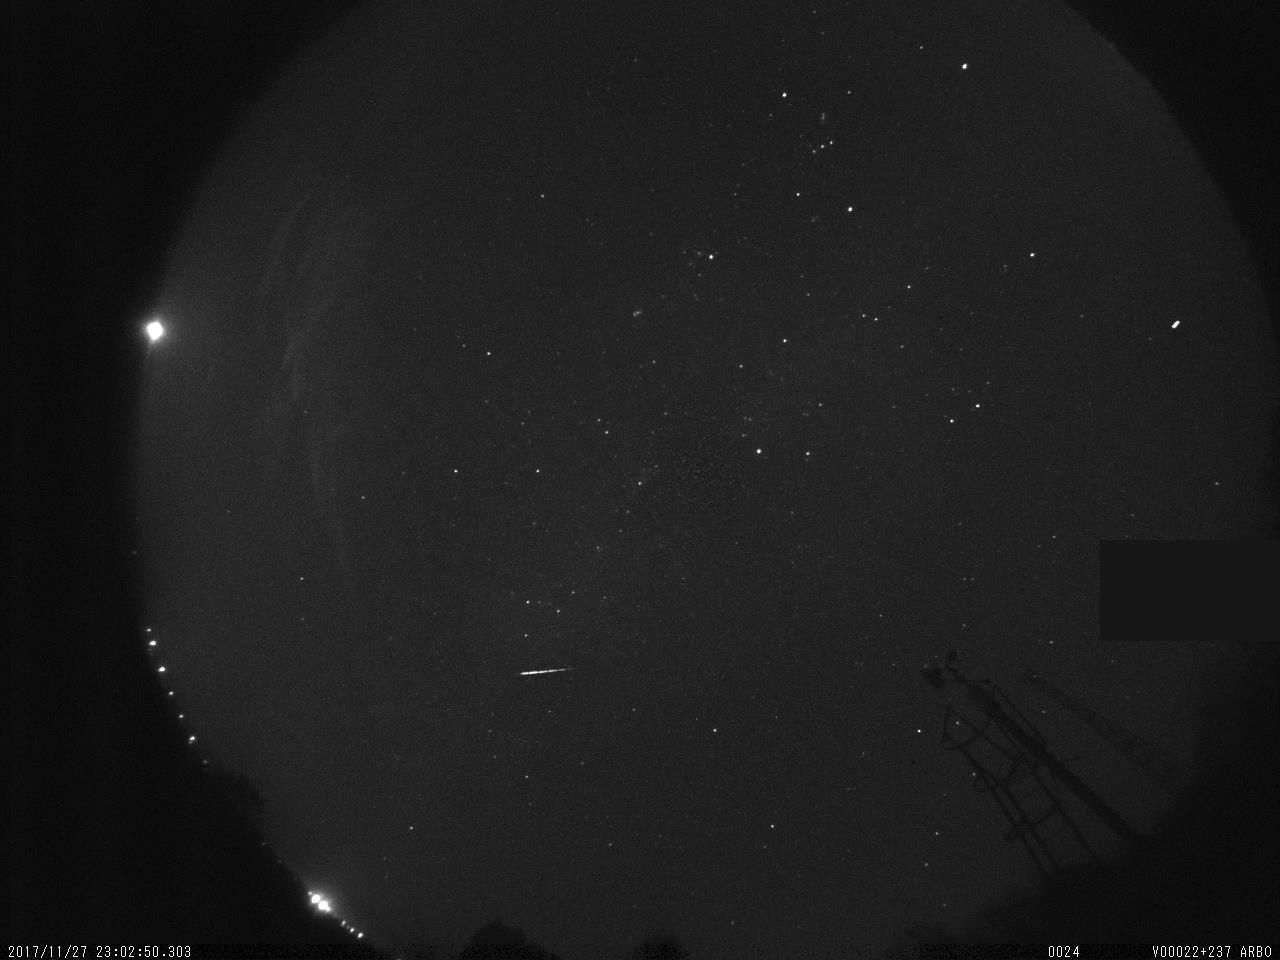meteor: (511, 657, 578, 692)
